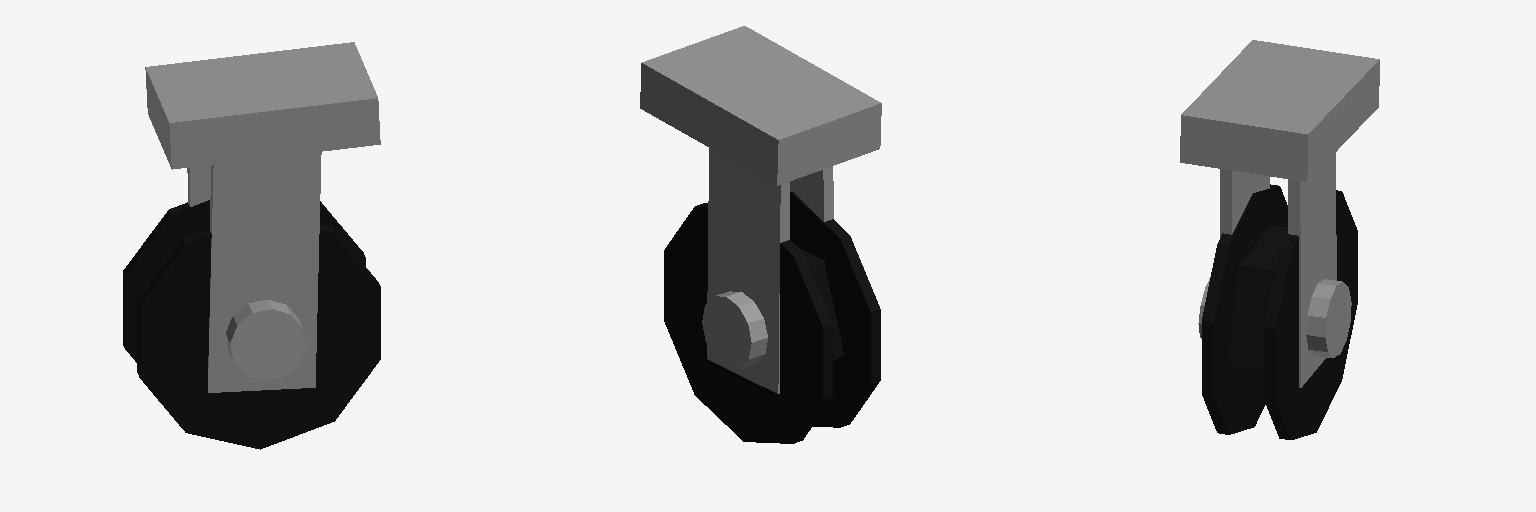
The picture shows the model from 3 angles: view 1: azimuth 30°, elevation 25°; view 2: azimuth 150°, elevation 25°; view 3: azimuth 270°, elevation 25°; orthographic projection.
Parts seen in each view (by area): view 1: group[number redacted], group[number redacted], group[number redacted], group[number redacted], group[number redacted], group[number redacted]; view 2: group[number redacted], group[number redacted], group[number redacted], group[number redacted], group[number redacted], group[number redacted]; view 3: group[number redacted], group[number redacted], group[number redacted], group[number redacted], group[number redacted], group[number redacted].
Boxes of the visible parts, <box> form: group[number redacted]: <box>137,225,380,449</box>; group[number redacted]: <box>145,42,380,169</box>; group[number redacted]: <box>208,152,321,392</box>; group[number redacted]: <box>226,299,305,380</box>; group[number redacted]: <box>123,200,365,362</box>; group[number redacted]: <box>187,165,210,206</box>; group[number redacted]: <box>640,26,881,185</box>; group[number redacted]: <box>664,203,843,443</box>; group[number redacted]: <box>707,148,789,393</box>; group[number redacted]: <box>790,192,880,427</box>; group[number redacted]: <box>702,291,767,368</box>; group[number redacted]: <box>790,166,833,221</box>; group[number redacted]: <box>1180,40,1379,181</box>; group[number redacted]: <box>1229,190,1357,439</box>; group[number redacted]: <box>1202,184,1287,434</box>; group[number redacted]: <box>1288,153,1336,387</box>; group[number redacted]: <box>1306,279,1351,357</box>; group[number redacted]: <box>1220,169,1269,237</box>.
Bounding box in the file's own units: 0.1025 × 0.1511 × 0.0776.